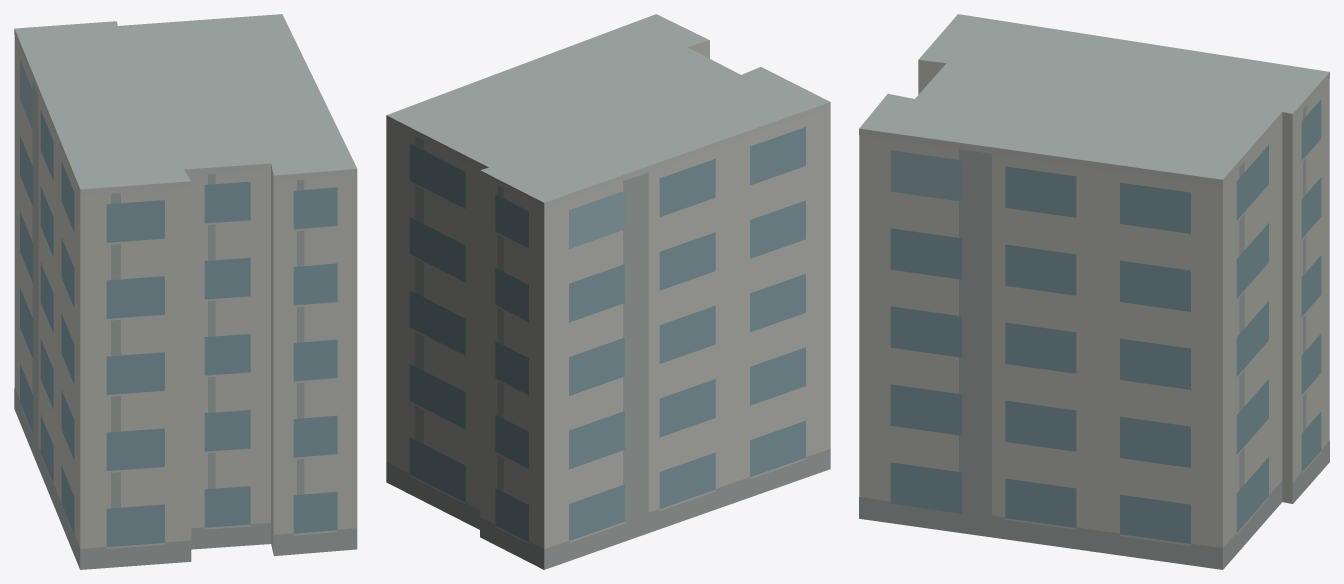
File: survey-upis-32892600.glb
The picture shows the model from 3 angles, left to right: view 1: azimuth 30°, elevation 25°; view 2: azimuth 150°, elevation 25°; view 3: azimuth 270°, elevation 25°; orthographic projection. The views are drawn at different scales.
Visible parts, largest first — view 1: survey-upis-32892600.tmp; view 2: survey-upis-32892600.tmp; view 3: survey-upis-32892600.tmp.
Part boxes in pixels (left/top/right/bottom): survey-upis-32892600.tmp: left=14, top=14, right=357, bottom=569; survey-upis-32892600.tmp: left=386, top=14, right=830, bottom=569; survey-upis-32892600.tmp: left=859, top=14, right=1329, bottom=569.
Bounding box in the file's own units: 13.13 × 14.4 × 15.76.
